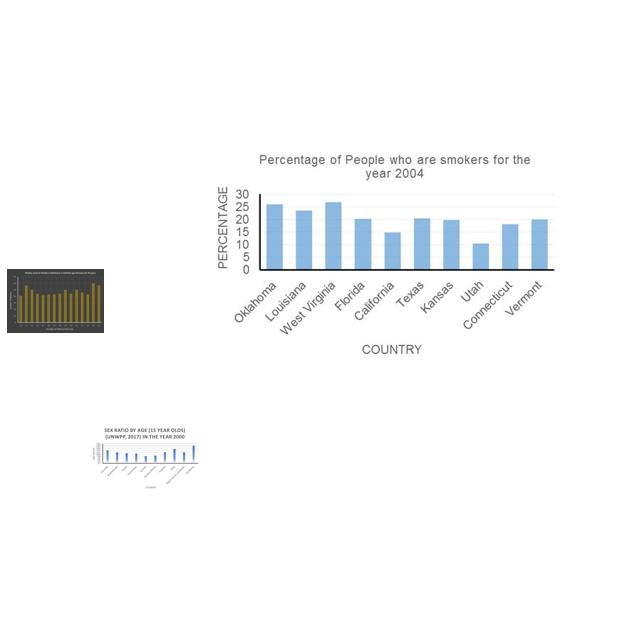Graph: (211, 147, 560, 361), (90, 426, 200, 490), (7, 269, 104, 333)
